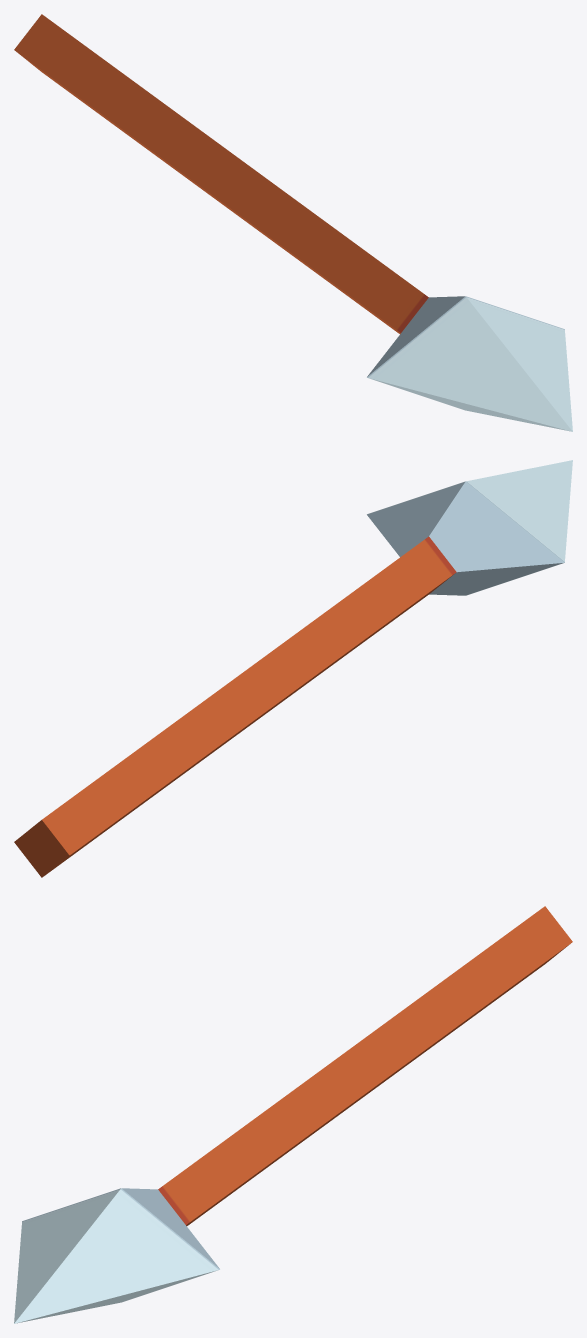
File: crossbow_arrow_mesh.FBX
3 views of the same model, one above another, from view 1: azimuth 30°, elevation 25°; view 2: azimuth 150°, elevation 25°; view 3: azimuth 330°, elevation 25° (orthographic).
Visible parts, largest first — view 1: Cylinder002; view 2: Cylinder002; view 3: Cylinder002.
Part boxes in pixels (x1,y1,x2,y2): Cylinder002: [14, 14, 572, 431]; Cylinder002: [14, 460, 572, 877]; Cylinder002: [14, 906, 572, 1323].
Size of the model in its own units: 22.32 by 12.3 by 104.
Materials: 1 (1 with a texture image).
